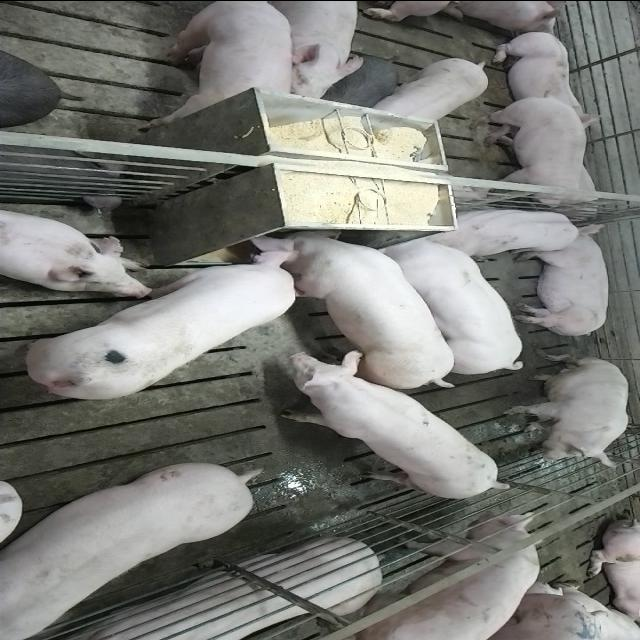Feeding: (19, 244, 304, 402), (252, 220, 462, 386)
Lateral_lying: (35, 538, 380, 640), (512, 220, 612, 338)
Sitting: (502, 354, 632, 466)
Standing: (0, 464, 260, 640), (260, 354, 510, 502), (334, 510, 548, 640), (376, 234, 532, 375), (143, 2, 294, 130), (466, 89, 610, 217), (246, 3, 366, 105), (374, 53, 489, 125), (318, 51, 400, 109)
Sternal_lying: (0, 204, 154, 294), (484, 28, 604, 122), (428, 204, 588, 258)
